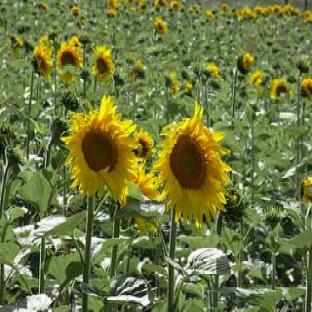sunflower: (61, 96, 144, 285), (153, 103, 231, 261)
